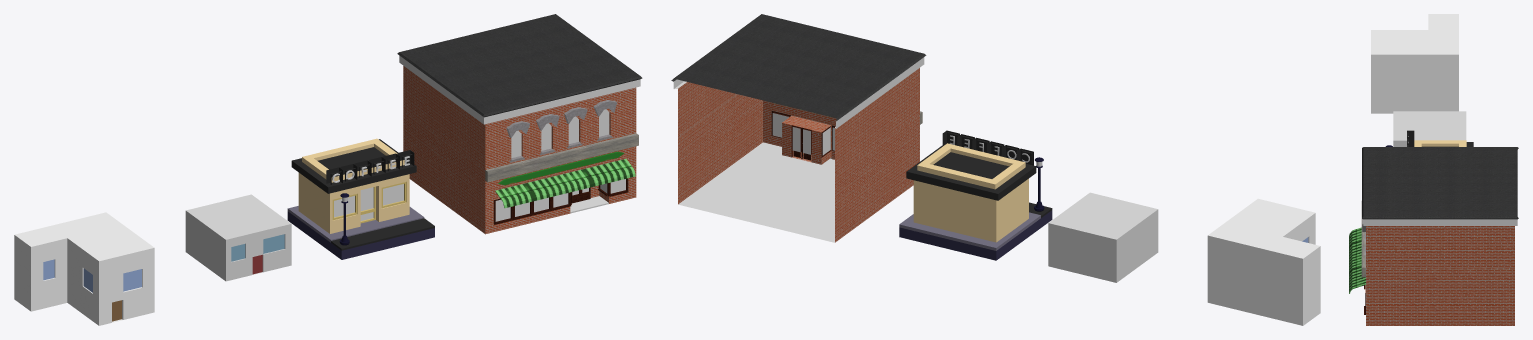
Rendered from EdificiosRelleno.fbx.
3 views of the same model, side by side, from view 1: azimuth 30°, elevation 25°; view 2: azimuth 150°, elevation 25°; view 3: azimuth 270°, elevation 25° (orthographic). The views are drawn at different scales.
Visible parts, largest first — view 1: Restaurant, Cube, Plane.004, Cube.001; view 2: Restaurant, Plane.004, Cube, Cube.001; view 3: Restaurant, Cube, Cube.001, Plane.004.
Boxes of the visible parts, <box> form: Restaurant: <box>397,14,642,234</box>; Cube: <box>14,212,154,325</box>; Plane.004: <box>287,138,434,259</box>; Cube.001: <box>185,194,291,281</box>; Restaurant: <box>671,14,926,242</box>; Plane.004: <box>899,130,1052,260</box>; Cube: <box>1207,198,1320,325</box>; Cube.001: <box>1048,192,1158,282</box>; Restaurant: <box>1349,147,1518,325</box>; Cube: <box>1371,14,1458,113</box>; Cube.001: <box>1393,111,1466,146</box>; Plane.004: <box>1385,130,1473,146</box>.
Size of the model in its own units: 4925 by 997 by 1386.
26 materials, 7 textured.
